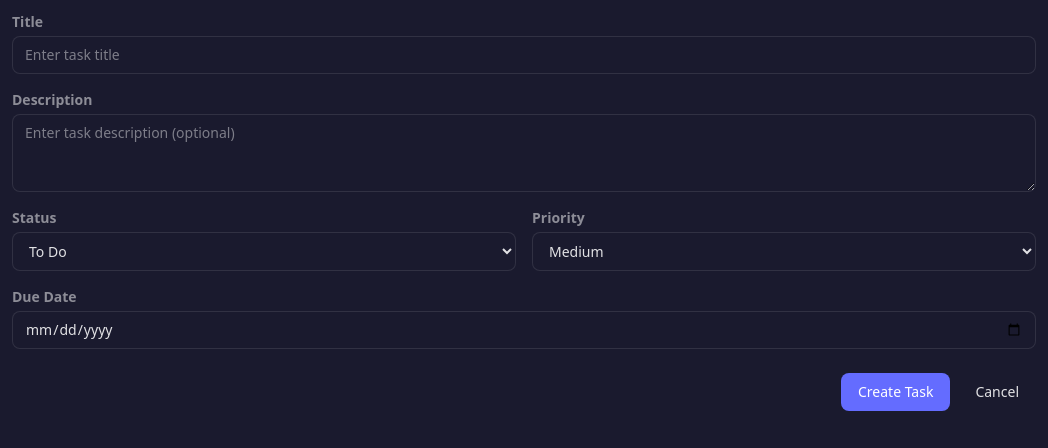
Test case: TaskForm › clears validation error when typing a title
The width and height of the screenshot is (1048, 448).
Click the button "Create Task" at (896, 392), box [841,373,950,411]
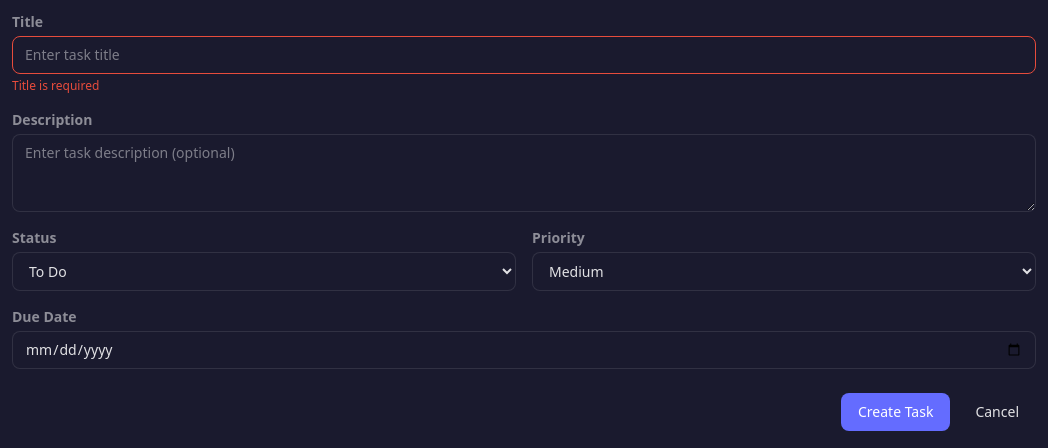
Result: the text "Title is required" is shown at [12,77,99,94]
Type "x" into the field labelled "Title" at (524, 55), box [12,36,1036,74]
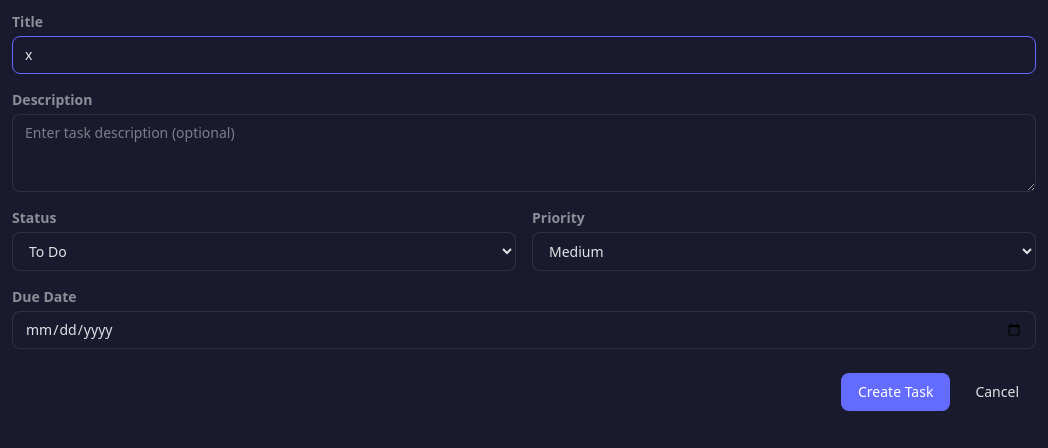
Result: the text "Title is required" is gone
